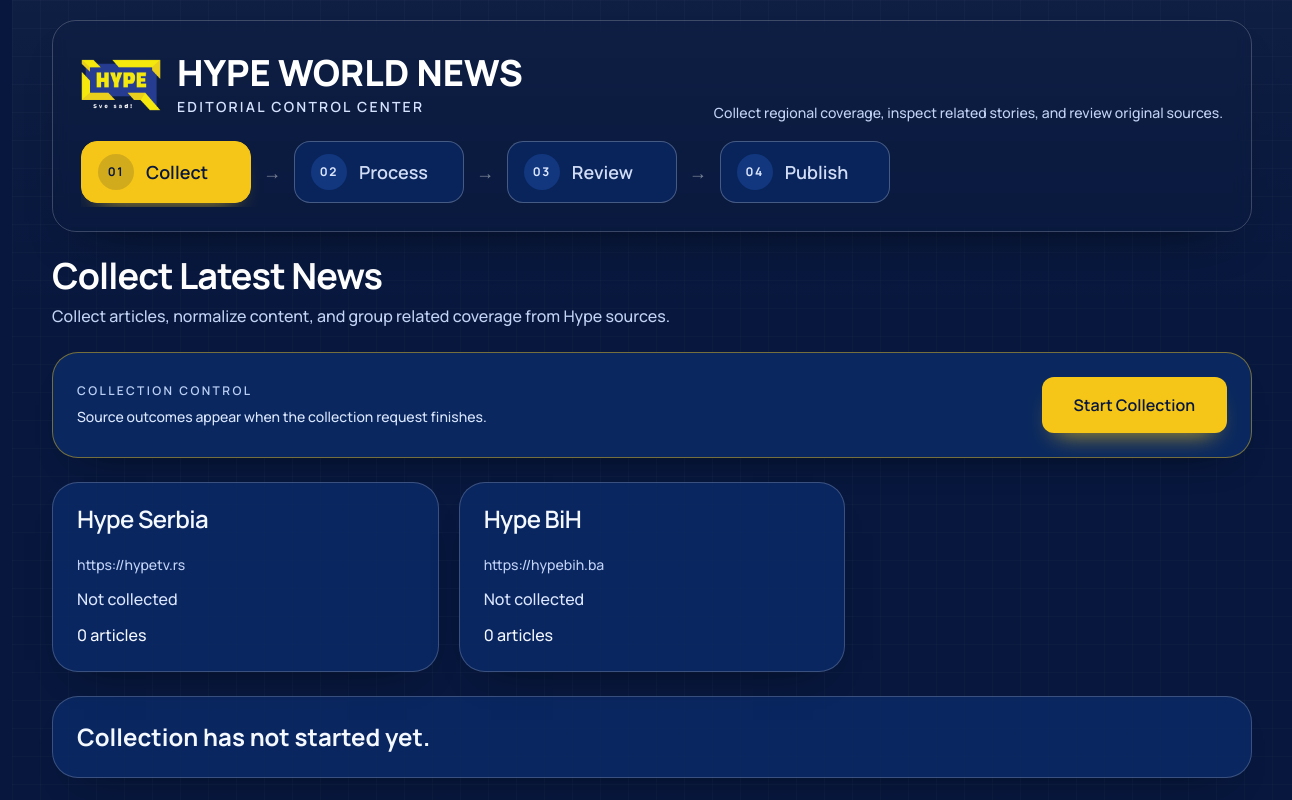
collection state and rendered outcomes › keeps the retained PostgreSQL snapshot after a successful empty collection
Step 1. Click the button "Start Collection" → {"x": 1134, "y": 405}, box [1042,377,1227,433]
(page scrolled)
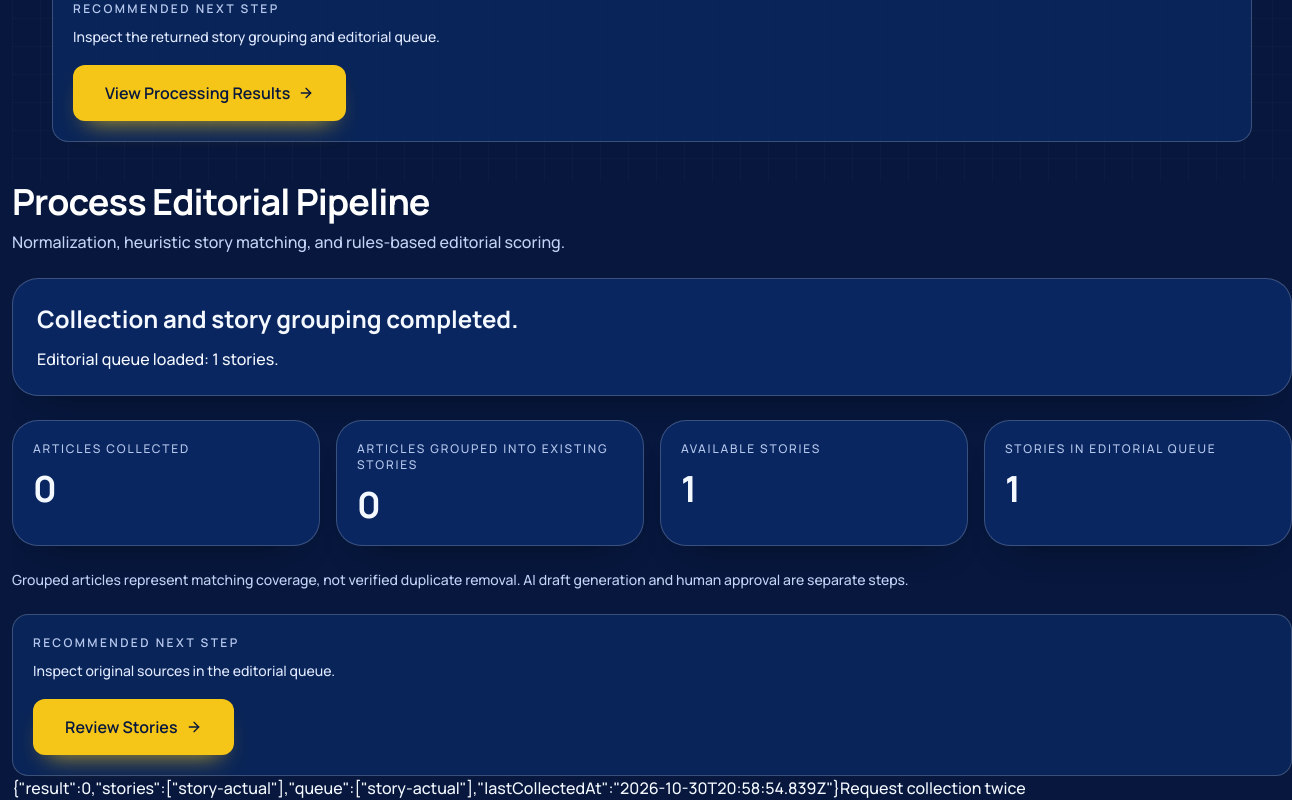
Expected: the 1st text "0" is shown, [33,464,57,513]
Expected: the 1st text "1" is shown, [681,464,697,513]
